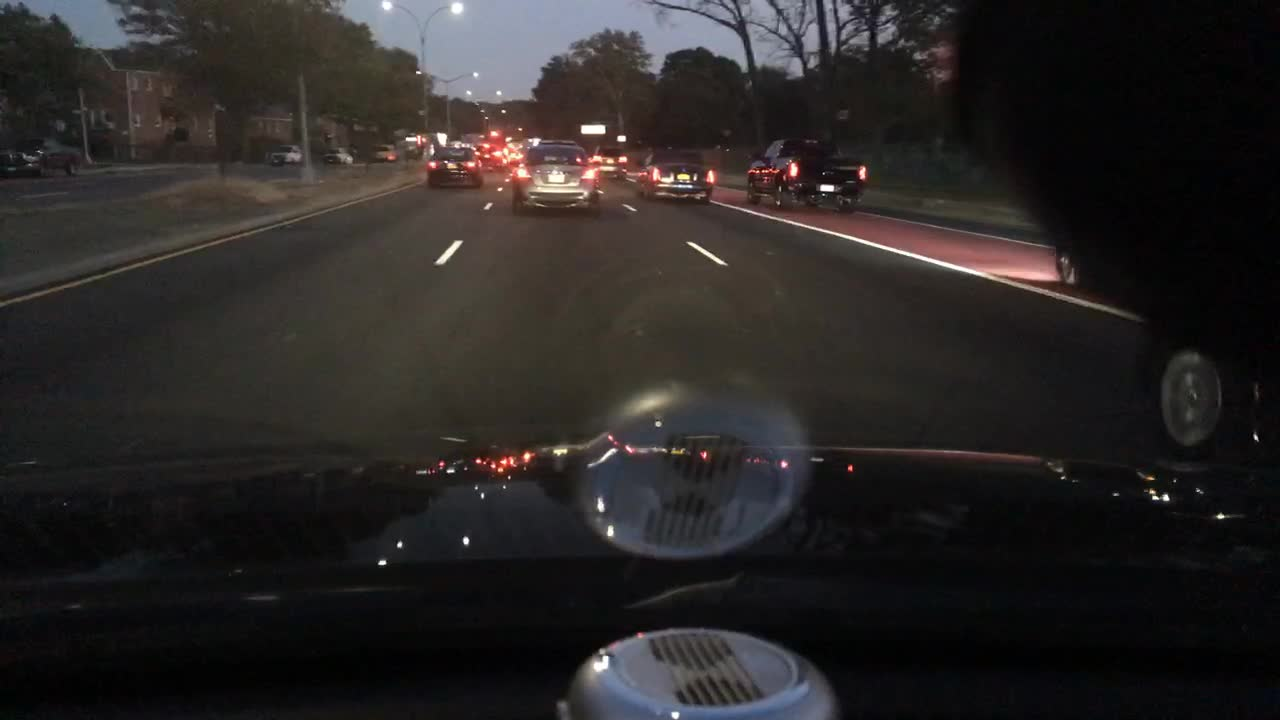car: (1136, 313, 1277, 461), (514, 145, 602, 215), (631, 149, 716, 202), (1, 137, 87, 179), (430, 147, 484, 192), (595, 150, 637, 183), (1054, 257, 1093, 290), (269, 143, 304, 165), (324, 147, 351, 165), (480, 147, 501, 170), (374, 145, 396, 162)
traffic sign: (578, 122, 608, 134)
truck: (746, 136, 867, 212)
